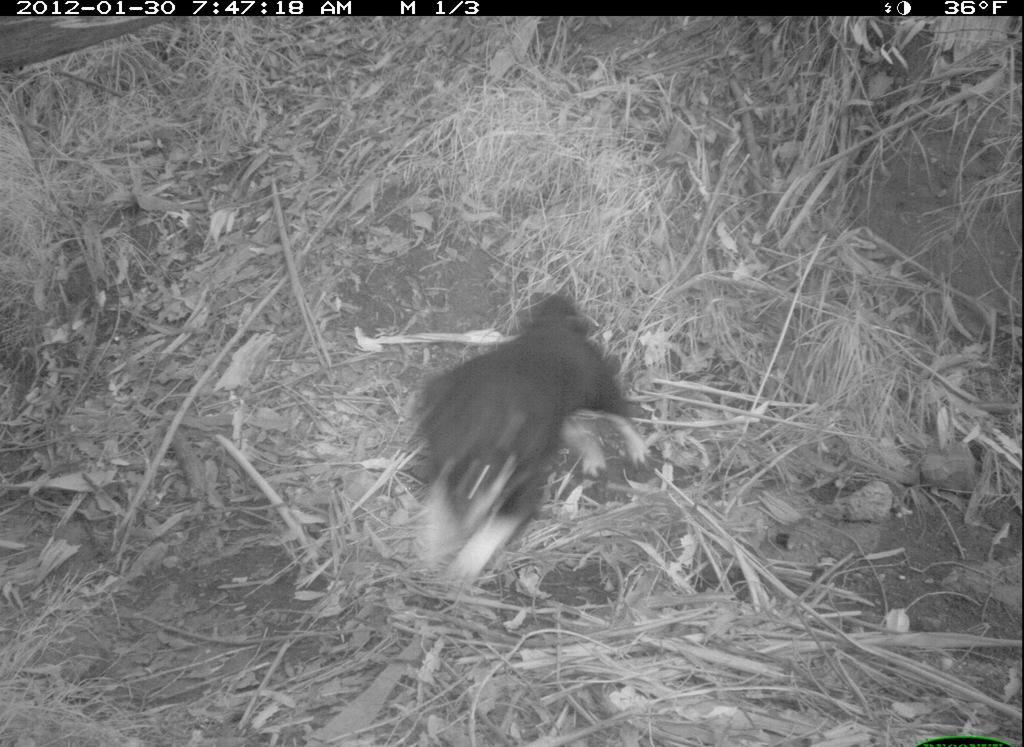dog: (393, 292, 660, 584)
